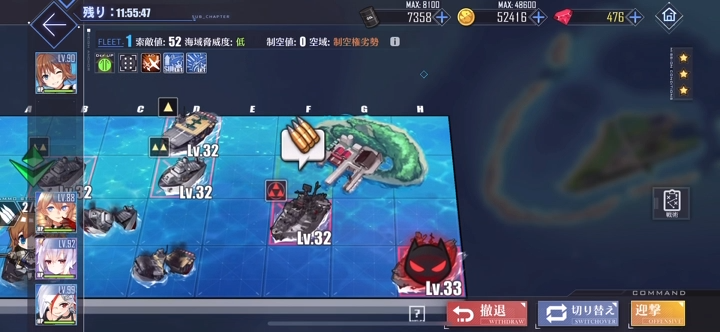boss: (395, 230, 462, 295)
lv3: (261, 177, 333, 248)
